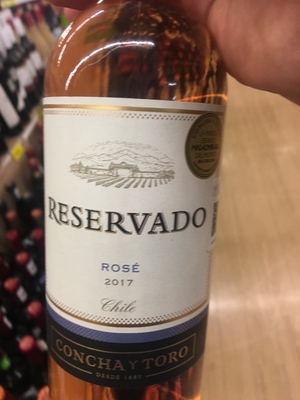reservado rose: (42, 3, 223, 400)
